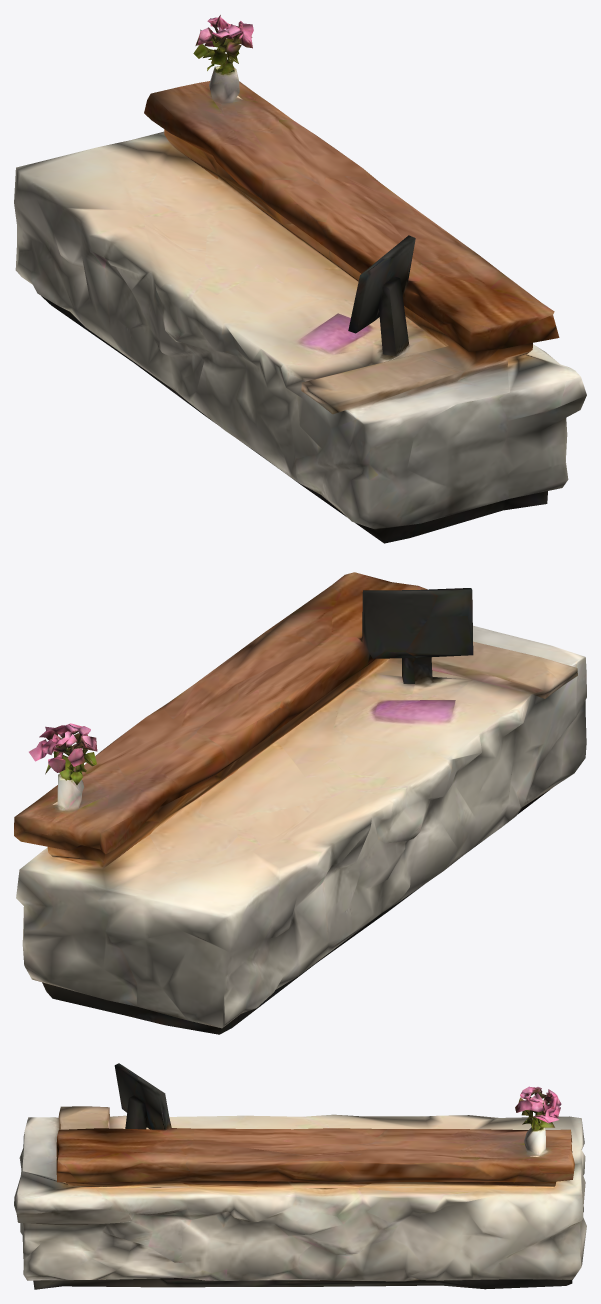
File: innen_empfang.glb
The picture shows the model from 3 angles, top to bottom: view 1: azimuth 30°, elevation 25°; view 2: azimuth 150°, elevation 25°; view 3: azimuth 270°, elevation 25°; orthographic projection. The views are drawn at different scales.
Visible parts, largest first — view 1: tripo_node_873d7a99-8e20-41b4-91d5-c316a39db72b; view 2: tripo_node_873d7a99-8e20-41b4-91d5-c316a39db72b; view 3: tripo_node_873d7a99-8e20-41b4-91d5-c316a39db72b.
Part boxes in pixels (box(x1,y1,x2,y2)): tripo_node_873d7a99-8e20-41b4-91d5-c316a39db72b: box(14, 15, 586, 543); tripo_node_873d7a99-8e20-41b4-91d5-c316a39db72b: box(14, 572, 586, 1034); tripo_node_873d7a99-8e20-41b4-91d5-c316a39db72b: box(14, 1063, 586, 1289).
Bounding box in the file's own units: 0.3684 × 0.3788 × 0.9993.
Materials: 1 (1 with a texture image).
